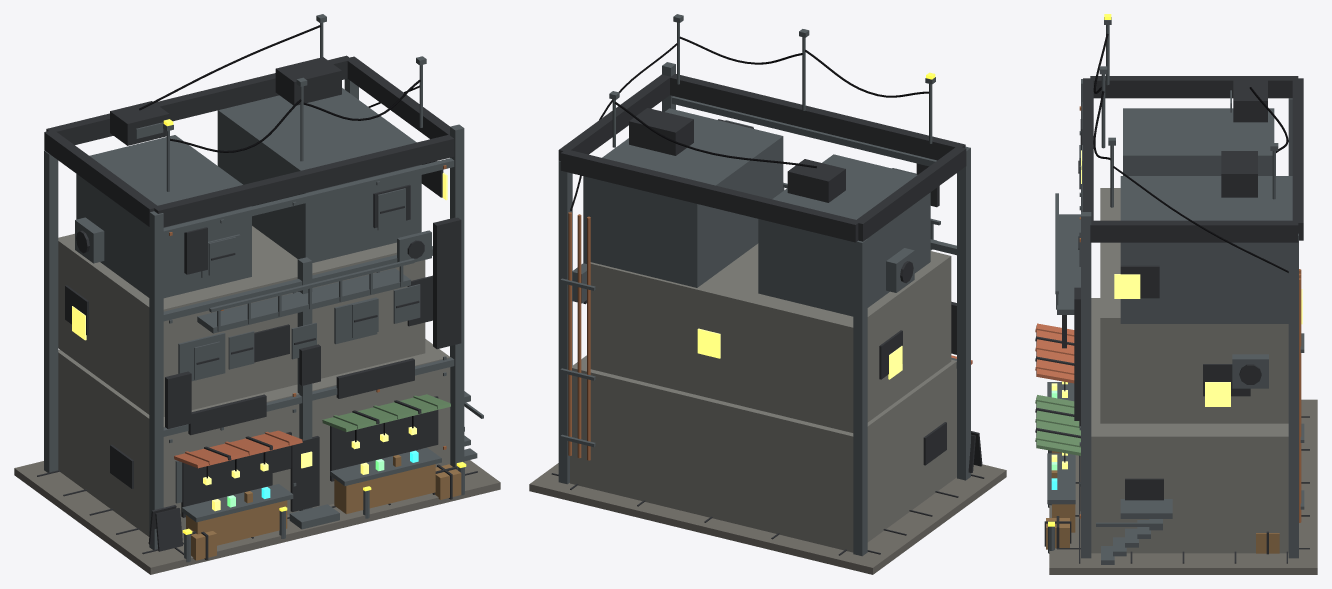
The model's file is SM_BazaarBuilding_CatwalkKiosk.glb.
3 views of the same model, side by side, from view 1: azimuth 30°, elevation 25°; view 2: azimuth 150°, elevation 25°; view 3: azimuth 270°, elevation 25° (orthographic).
Parts seen in each view (by area): view 1: Main_Block_Level02_Setback, Main_Block_Lower_StreetLevel, Main_Block_Level03_RightTower, Main_Block_Level03_LeftUtility, Sidewalk_Base_Slab, Roof_Parapet_Front, CornerOrBay_Post_03, CornerOrBay_Post_01, Roof_Parapet_Back, Catwalk_Level02_Platform, Sign_MarketVertical_BackPanel, CornerOrBay_Post_02 (+42 smaller); view 2: Main_Block_Lower_StreetLevel, Main_Block_Level02_Setback, Main_Block_Level03_RightTower, Main_Block_Level03_LeftUtility, Sidewalk_Base_Slab, Roof_Parapet_Back, Roof_Parapet_Front, CornerOrBay_Post_03, CornerOrBay_Post_01, CornerOrBay_Post_04, Roof_Parapet_Left, Roof_Parapet_Right (+10 smaller); view 3: Main_Block_Lower_StreetLevel, Main_Block_Level03_RightTower, Main_Block_Level02_Setback, Main_Block_Level03_LeftUtility, Sidewalk_Base_Slab, Roof_Parapet_Right, Roof_Parapet_Left, CornerOrBay_Post_02, CornerOrBay_Post_04, Catwalk_Level02_Platform, Awning_Right_MainSlab, Roof_Parapet_Back (+21 smaller).
Part boxes in pixels (left/top/right/bottom): Main_Block_Level02_Setback: left=58, top=226, right=425, bottom=416; Main_Block_Lower_StreetLevel: left=58, top=339, right=450, bottom=540; Main_Block_Level03_RightTower: left=217, top=88, right=421, bottom=262; Main_Block_Level03_LeftUtility: left=76, top=135, right=251, bottom=298; Sidewalk_Base_Slab: left=14, top=460, right=500, bottom=574; Roof_Parapet_Front: left=153, top=134, right=454, bottom=227; CornerOrBay_Post_03: left=44, top=150, right=58, bottom=472; CornerOrBay_Post_01: left=149, top=211, right=163, bottom=549; Roof_Parapet_Back: left=46, top=55, right=351, bottom=144; Catwalk_Level02_Platform: left=197, top=268, right=410, bottom=333; Sign_MarketVertical_BackPanel: left=433, top=217, right=461, bottom=349; CornerOrBay_Post_02: left=450, top=124, right=464, bottom=470; Main_Block_Lower_StreetLevel: left=570, top=355, right=956, bottom=552; Main_Block_Level02_Setback: left=590, top=243, right=951, bottom=432; Main_Block_Level03_RightTower: left=583, top=108, right=783, bottom=287; Main_Block_Level03_LeftUtility: left=758, top=154, right=930, bottom=316; Sidewalk_Base_Slab: left=529, top=463, right=1006, bottom=574; Roof_Parapet_Back: left=560, top=150, right=860, bottom=242; Roof_Parapet_Front: left=666, top=73, right=965, bottom=160; CornerOrBay_Post_03: left=853, top=239, right=867, bottom=556; CornerOrBay_Post_01: left=957, top=146, right=970, bottom=480; CornerOrBay_Post_04: left=558, top=161, right=572, bottom=484; Roof_Parapet_Left: left=854, top=146, right=966, bottom=241; Roof_Parapet_Right: left=558, top=74, right=669, bottom=160; Main_Block_Lower_StreetLevel: left=1091, top=298, right=1288, bottom=553; Main_Block_Level03_RightTower: left=1120, top=176, right=1292, bottom=323; Main_Block_Level02_Setback: left=1100, top=188, right=1288, bottom=423; Main_Block_Level03_LeftUtility: left=1123, top=108, right=1274, bottom=175; Sidewalk_Base_Slab: left=1049, top=399, right=1317, bottom=574; Roof_Parapet_Right: left=1090, top=220, right=1298, bottom=242; Roof_Parapet_Left: left=1090, top=76, right=1298, bottom=98; CornerOrBay_Post_02: left=1081, top=212, right=1091, bottom=558; CornerOrBay_Post_04: left=1288, top=233, right=1298, bottom=558; Catwalk_Level02_Platform: left=1057, top=214, right=1080, bottom=314; Awning_Right_MainSlab: left=1036, top=395, right=1080, bottom=455; Roof_Parapet_Back: left=1292, top=78, right=1303, bottom=240.
Size of what is drawn, in the model's own units: 9.38 by 10.83 by 6.52.
